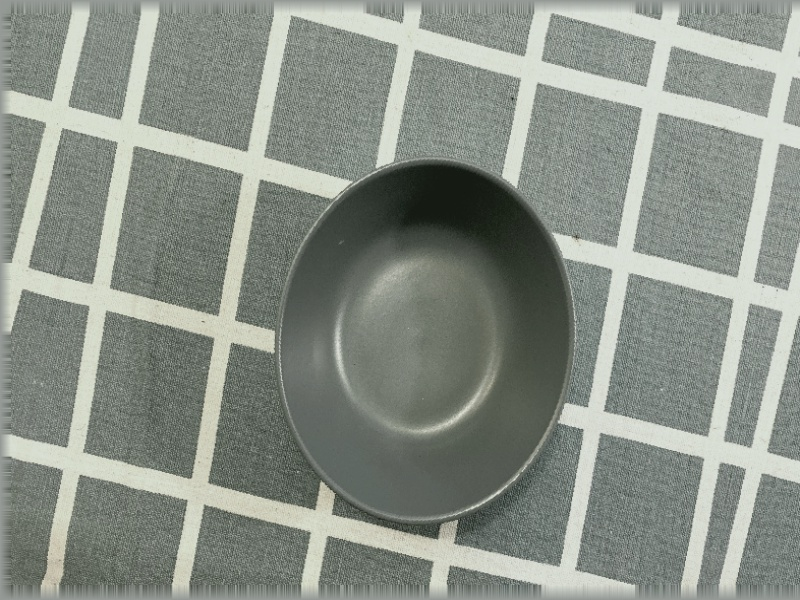bowl_big: (231, 115, 629, 577)
